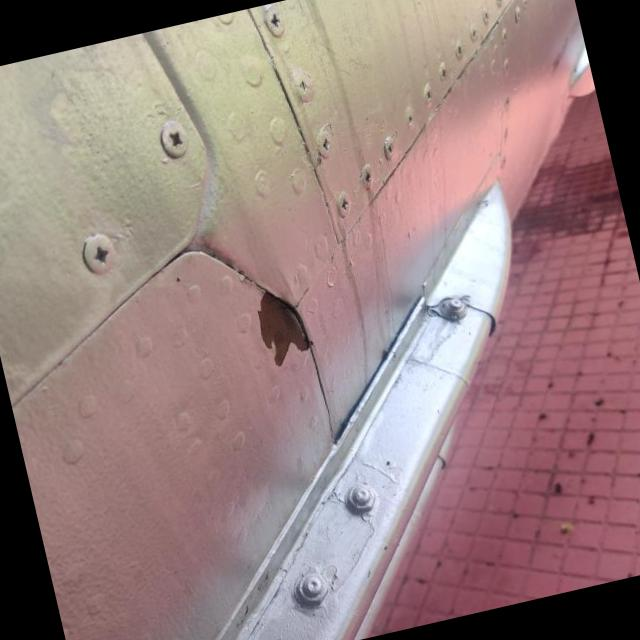Paint-off: (257, 292, 309, 366)
